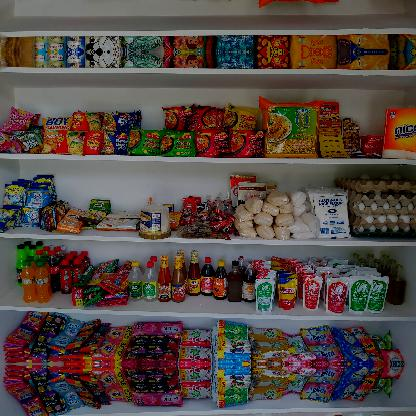Lady-s-Choice: (138, 204, 170, 240)
